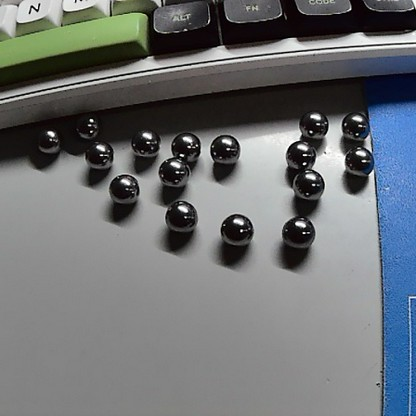ironball: (285, 163, 330, 204), (217, 205, 252, 253), (202, 129, 248, 164), (280, 210, 314, 257), (163, 196, 200, 237), (296, 105, 334, 141), (153, 156, 191, 192), (337, 104, 373, 140), (165, 125, 197, 164), (32, 125, 67, 160), (78, 141, 117, 172), (279, 140, 319, 170), (106, 175, 142, 208), (125, 125, 159, 156), (338, 145, 370, 174), (70, 110, 101, 137)
